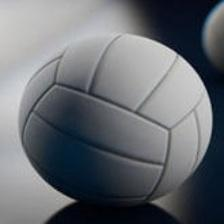Sports-Ball: (21, 38, 212, 206)
